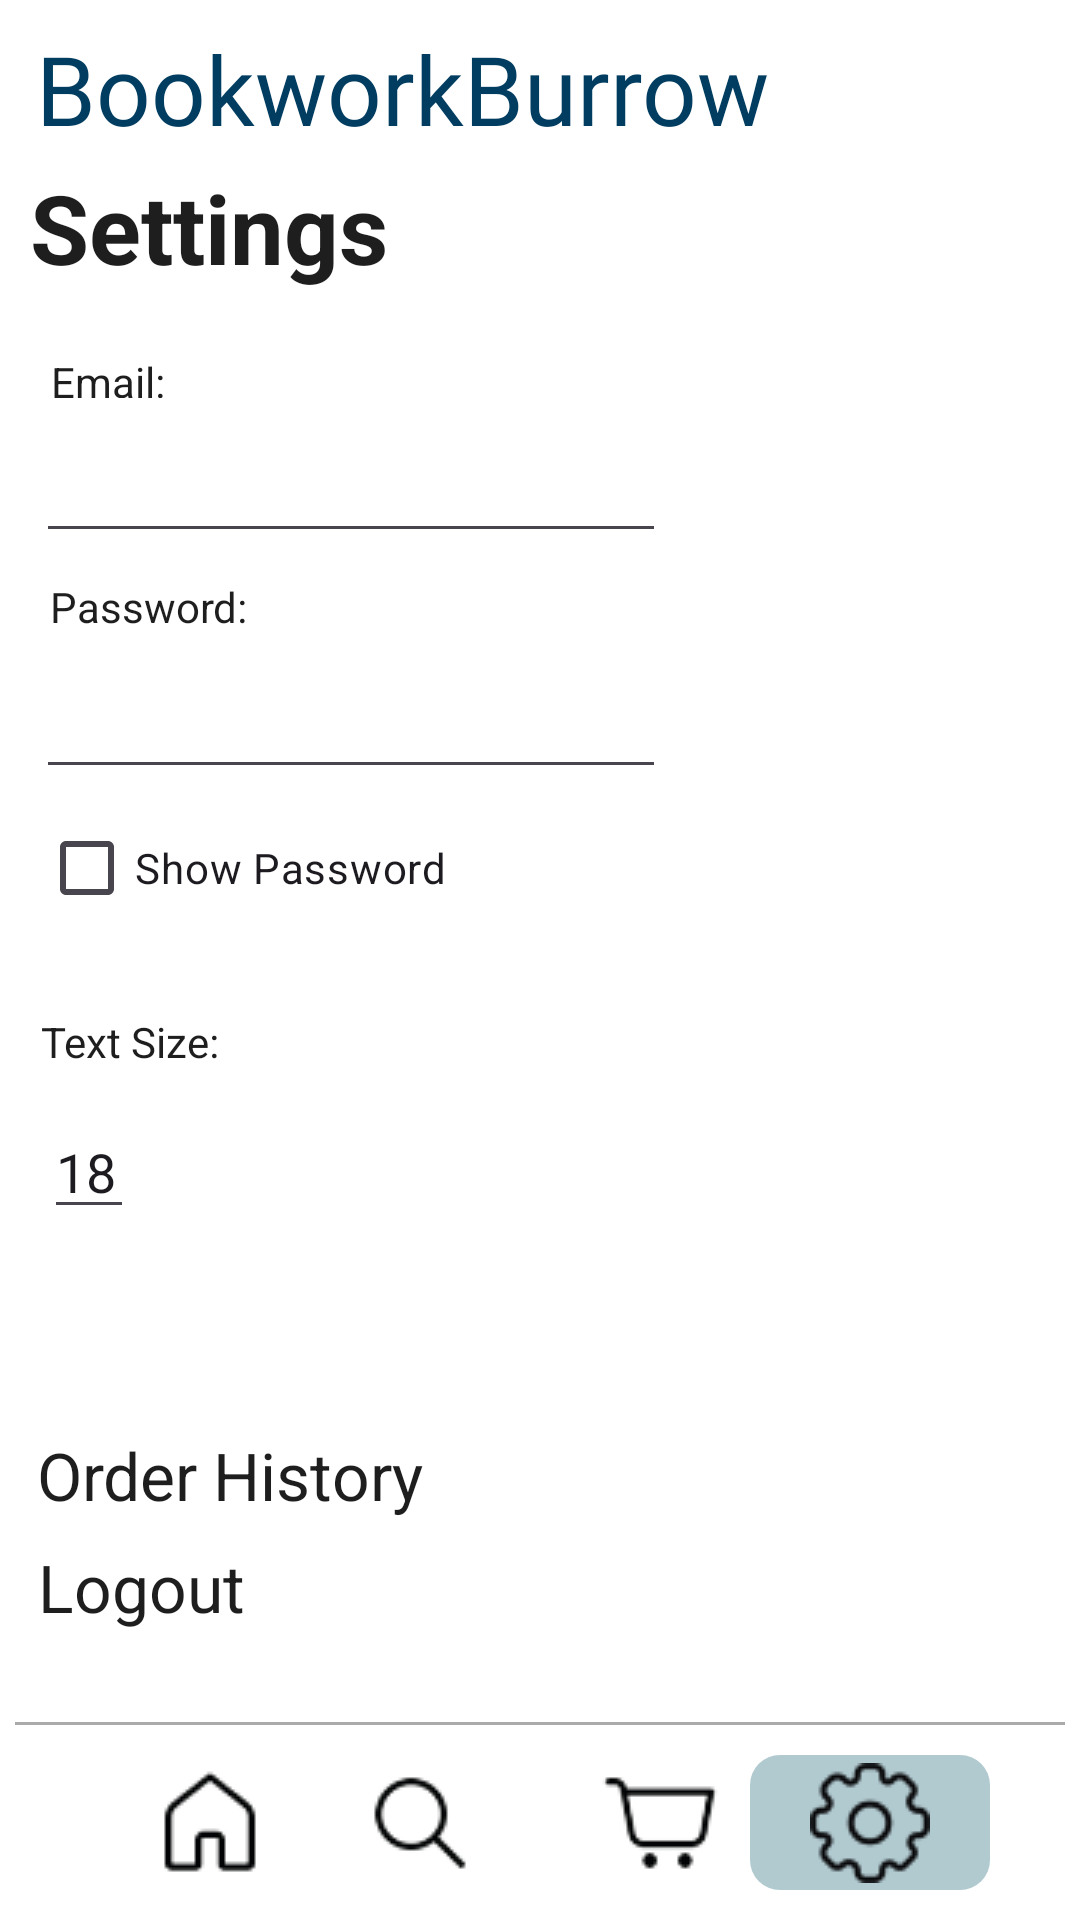

Icon click points for this 1080×1920 phone screenshot, format (x=x, y=y):
navigation cart: (x=692, y=1822)
navigation home: (x=210, y=1822)
navigation search: (x=420, y=1823)
navigation settings: (x=870, y=1822)
